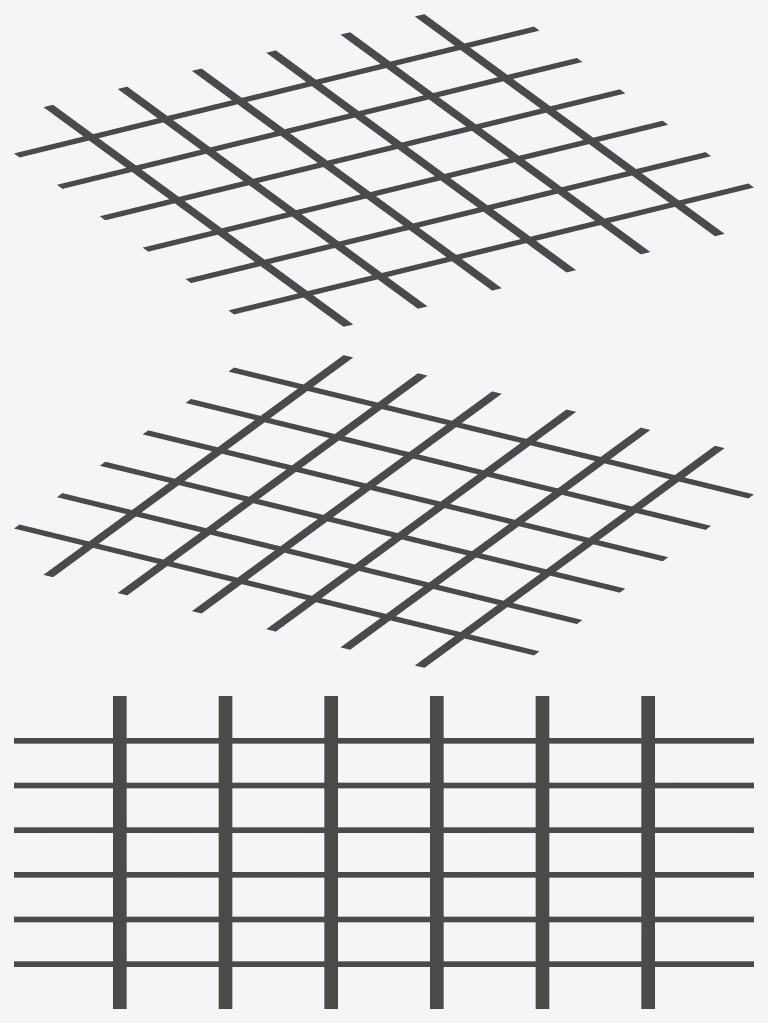
File: grid_dense_scene.obj
The picture shows the model from 3 angles, top to bottom: view 1: azimuth 30°, elevation 25°; view 2: azimuth 150°, elevation 25°; view 3: azimuth 270°, elevation 25°; orthographic projection. The views are drawn at different scales.
Visible parts, largest first — view 1: grid_dense_scene; view 2: grid_dense_scene; view 3: grid_dense_scene.
Part boxes in pixels (bbox=[...]): grid_dense_scene: bbox=[14, 14, 753, 326]; grid_dense_scene: bbox=[14, 355, 753, 667]; grid_dense_scene: bbox=[14, 696, 753, 1008].
Bounding box in the file's own units: 2205 × 0 × 2205.
1 material, 1 textured.
